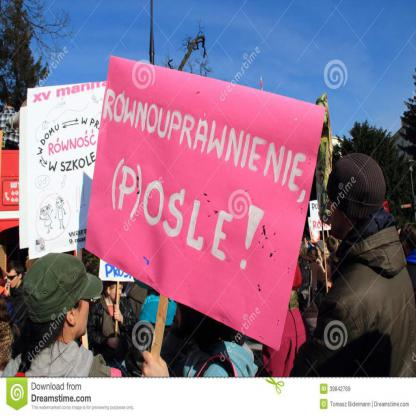face: (326, 187, 348, 240), (68, 289, 90, 335), (176, 298, 192, 327), (111, 281, 123, 301), (8, 270, 19, 288), (316, 247, 323, 257), (6, 275, 8, 292), (304, 239, 307, 245), (398, 229, 401, 235)
